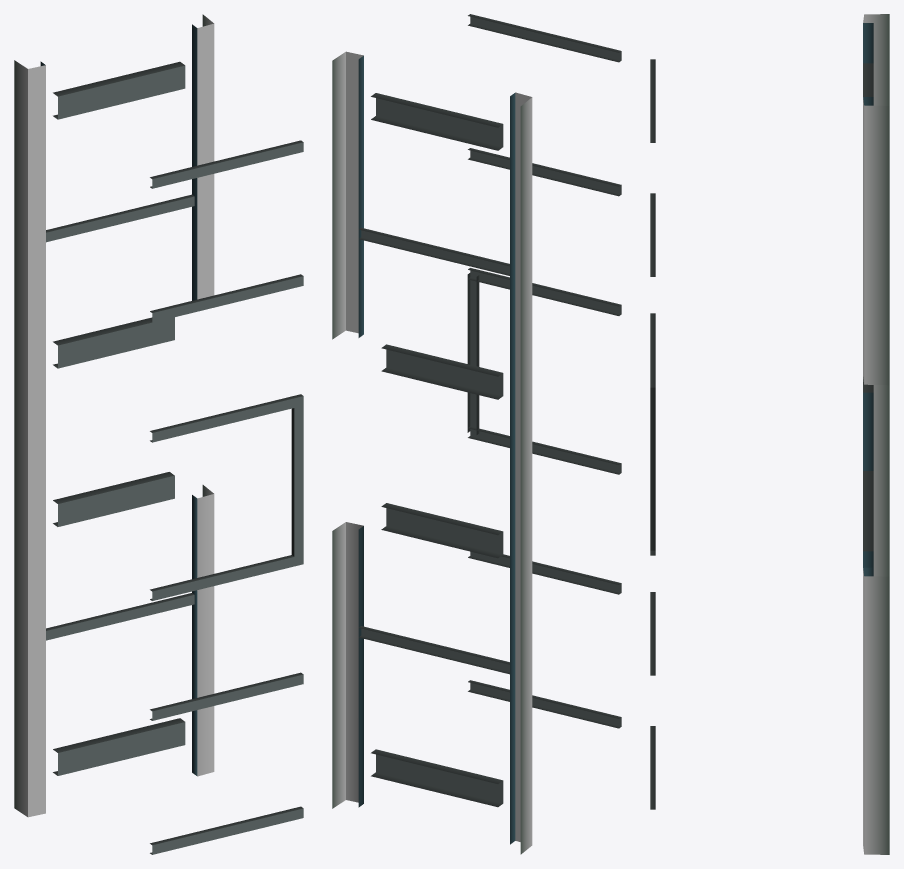
The model's file is SM_000238_w40h003_001roka_wall04_lv2.fbx.
3 renders of one model, left to right at view 1: azimuth 30°, elevation 25°; view 2: azimuth 150°, elevation 25°; view 3: azimuth 270°, elevation 25°, orthographic.
Visible parts, largest first — view 1: SM_000238.001; view 2: SM_000238.001; view 3: SM_000238.001.
Part boxes in pixels (x1=…): SM_000238.001: x1=14, y1=14, x2=303, y2=854; SM_000238.001: x1=332, y1=14, x2=621, y2=854; SM_000238.001: x1=650, y1=14, x2=889, y2=854.
Bounding box in the file's own units: 4.1 × 15.58 × 4.51.
